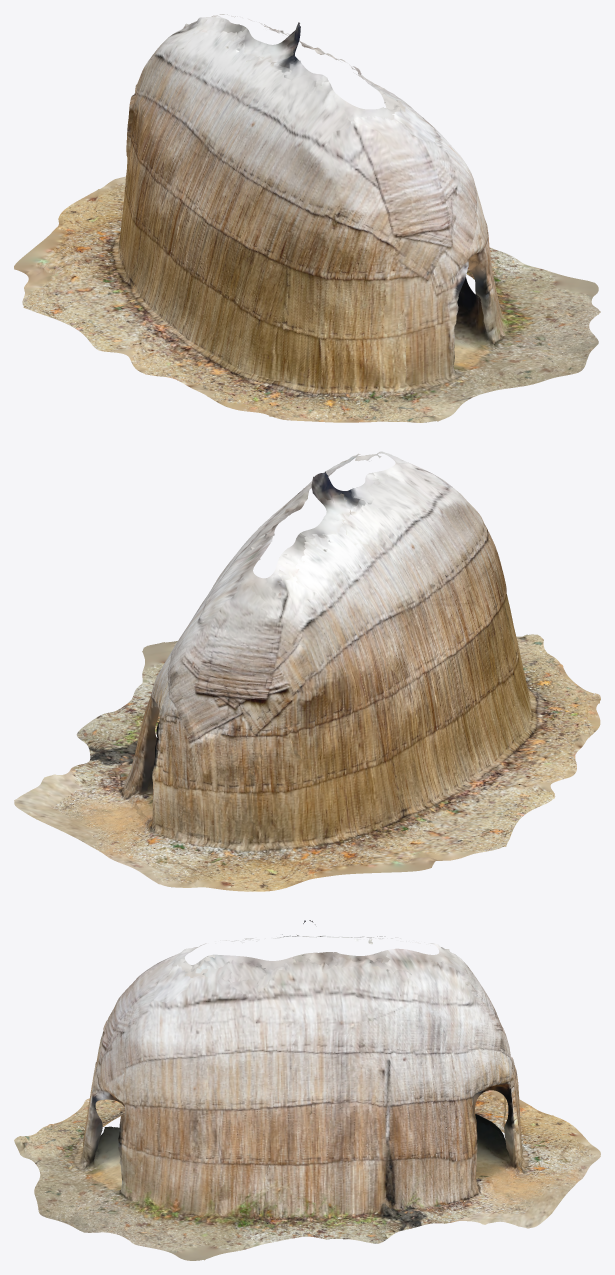
File: the_hut.glb
3 views of the same model, one above another, from view 1: azimuth 30°, elevation 25°; view 2: azimuth 150°, elevation 25°; view 3: azimuth 270°, elevation 25° (orthographic). The views are drawn at different scales.
Visible parts, largest first — view 1: Object_4; view 2: Object_4; view 3: Object_4.
Boxes of the visible parts, bbox=[...] form: Object_4: bbox=[14, 14, 600, 422]; Object_4: bbox=[14, 451, 600, 891]; Object_4: bbox=[14, 920, 600, 1260].
Size of the model in its own units: 6.75 by 3.85 by 8.44.
Materials: 1 (1 with a texture image).
